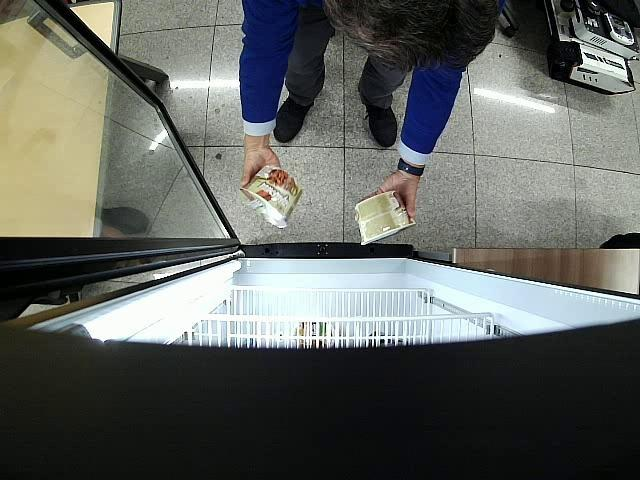03_chapagetti_L: (240, 167, 302, 228), (355, 190, 416, 245)
